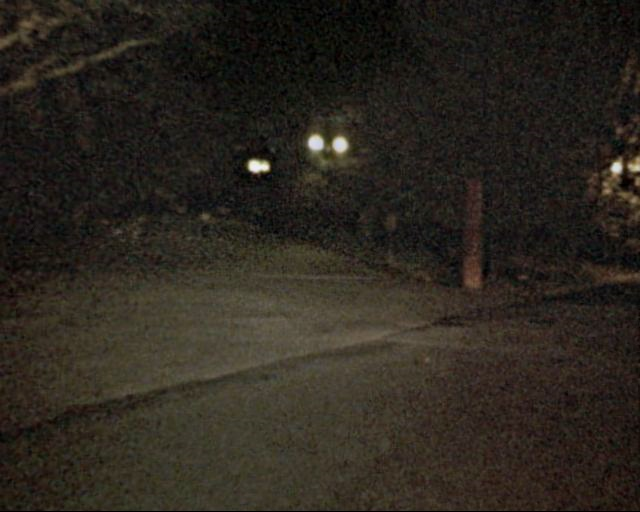person: (201, 206, 219, 251)
